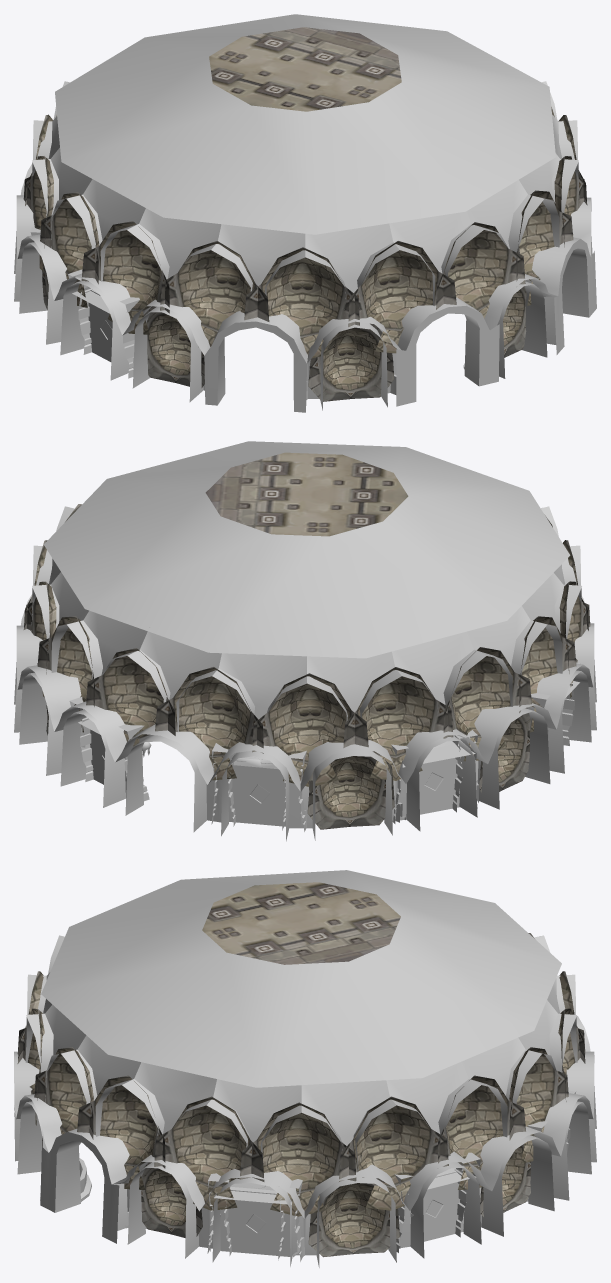
Rendered from Lv_6_dating_1.FBX.
3 renders of one model, top to bottom at view 1: azimuth 30°, elevation 25°; view 2: azimuth 150°, elevation 25°; view 3: azimuth 270°, elevation 25°, orthographic.
Parts seen in each view (by area): view 1: DN_tushuguan_dating01, DN_tushuguan_dating02; view 2: DN_tushuguan_dating01, DN_tushuguan_dating02; view 3: DN_tushuguan_dating01, DN_tushuguan_dating02.
Part boxes in pixels (box(x1,y1,x2,y2)): DN_tushuguan_dating01: box(14, 14, 596, 412); DN_tushuguan_dating02: box(23, 27, 587, 401); DN_tushuguan_dating01: box(14, 441, 596, 841); DN_tushuguan_dating02: box(23, 452, 590, 829); DN_tushuguan_dating01: box(14, 870, 596, 1267); DN_tushuguan_dating02: box(17, 882, 585, 1257).
Bounding box in the file's own units: 5488 × 2326 × 5487.
